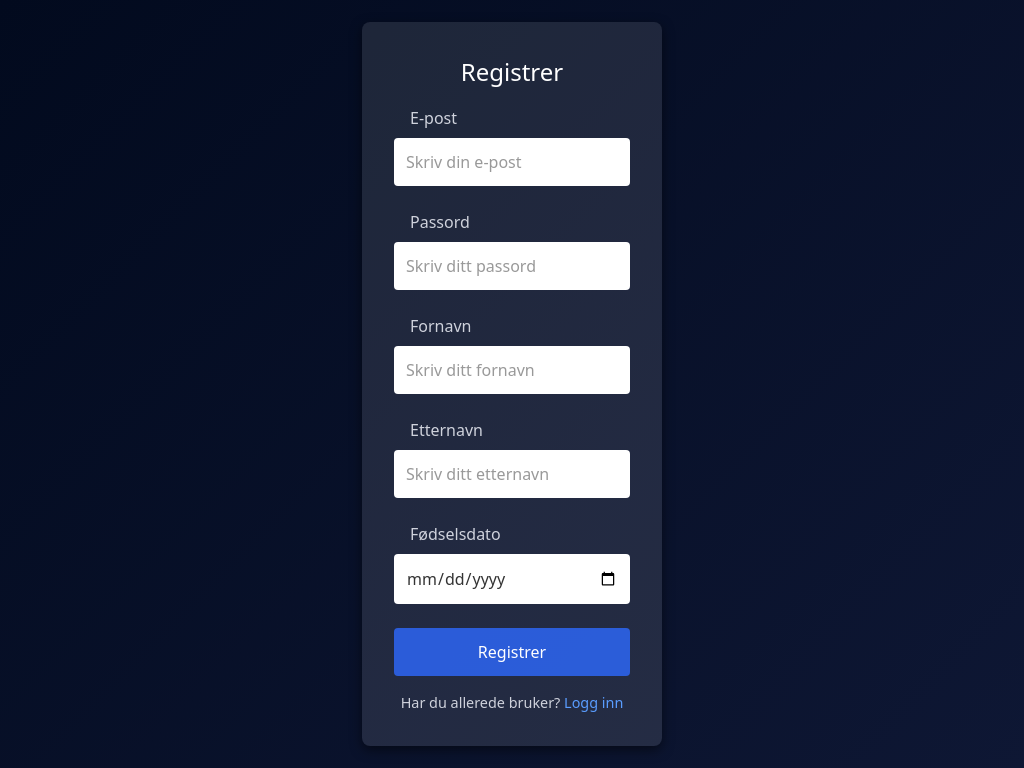
Test: displays error message on invalid email
This screenshot has width=1024, height=768.
Type "invalidemail" into the field with placeholder "Skriv din e-post" at coordinates (512, 162), box [394,138,630,186]
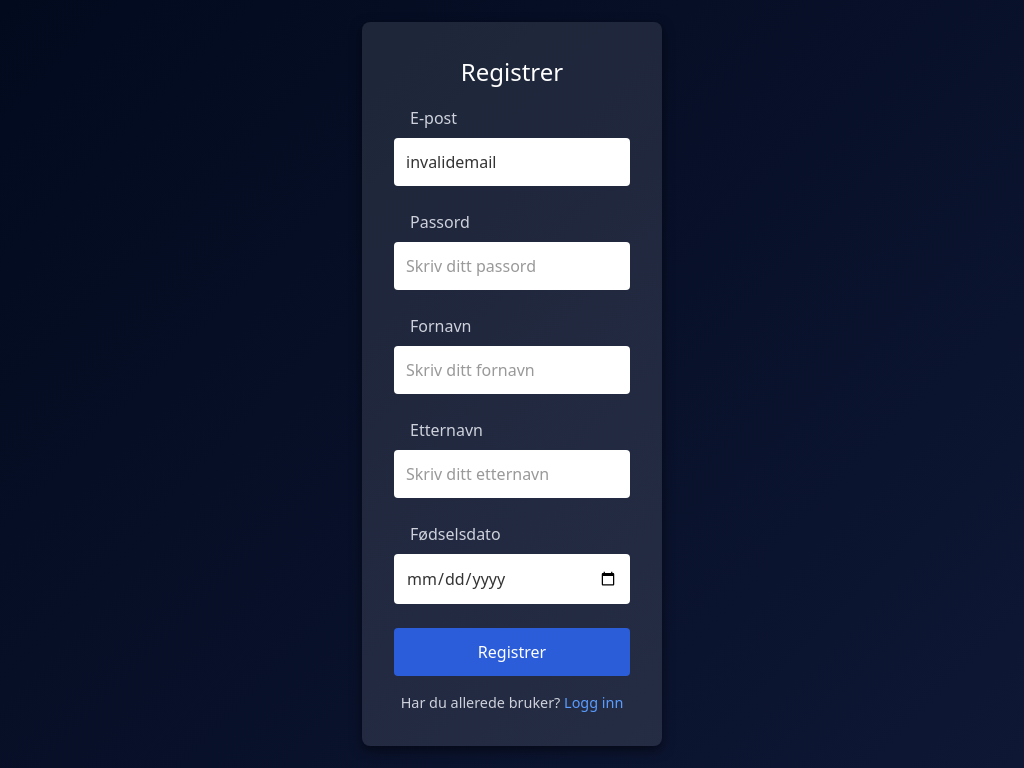
Type "ValidPass123" into the password field with placeholder "Skriv ditt passord" at coordinates (512, 266), box [394,242,630,290]
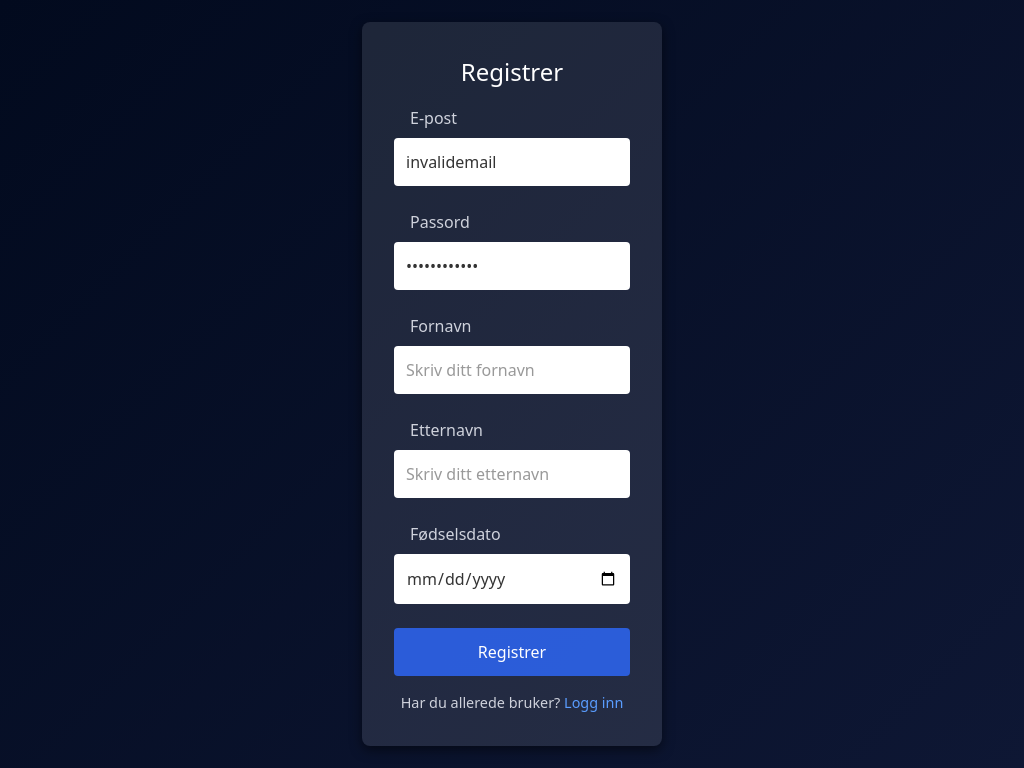
Type "Fornavn" into the field with placeholder "Skriv ditt fornavn" at coordinates (512, 370), box [394,346,630,394]
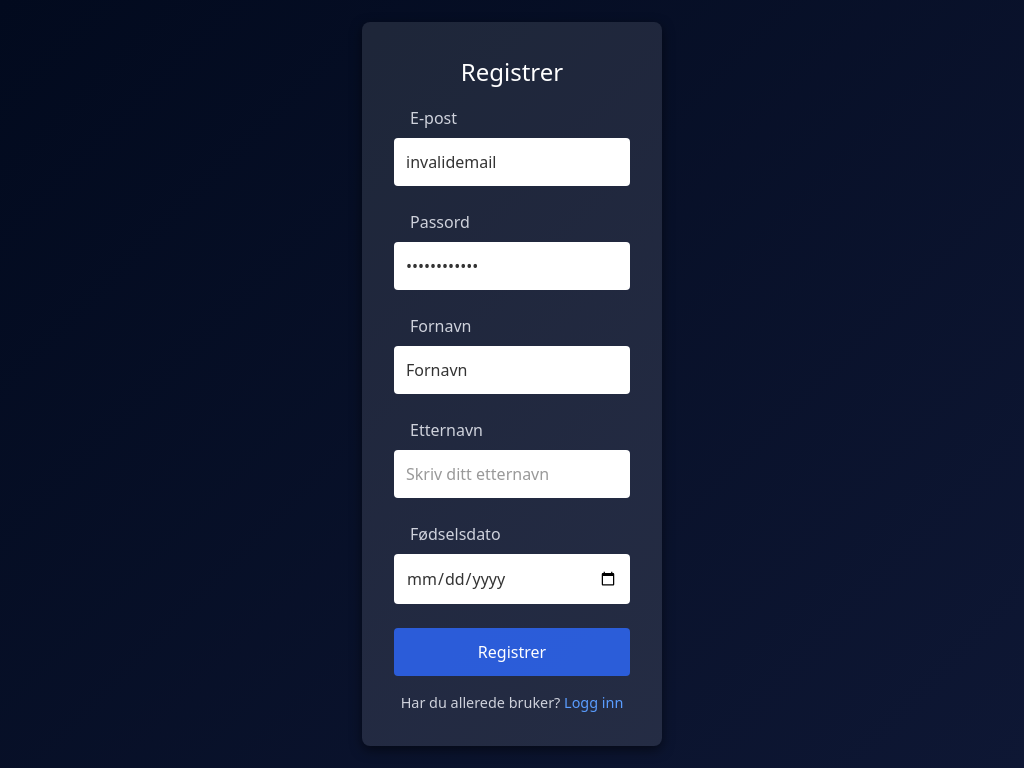
Type "Etternavn" into the field with placeholder "Skriv ditt etternavn" at coordinates (512, 474), box [394,450,630,498]
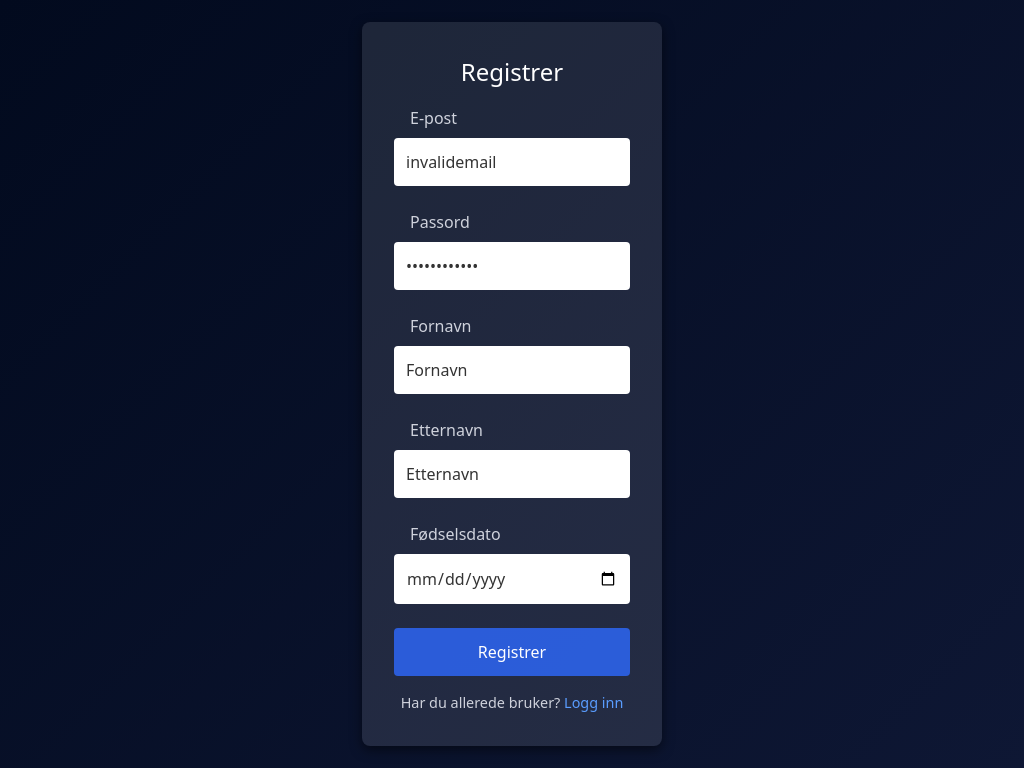
Type "2000-01-01" into the date field with placeholder "Enter your date of birth" at coordinates (512, 579), box [394,554,630,604]
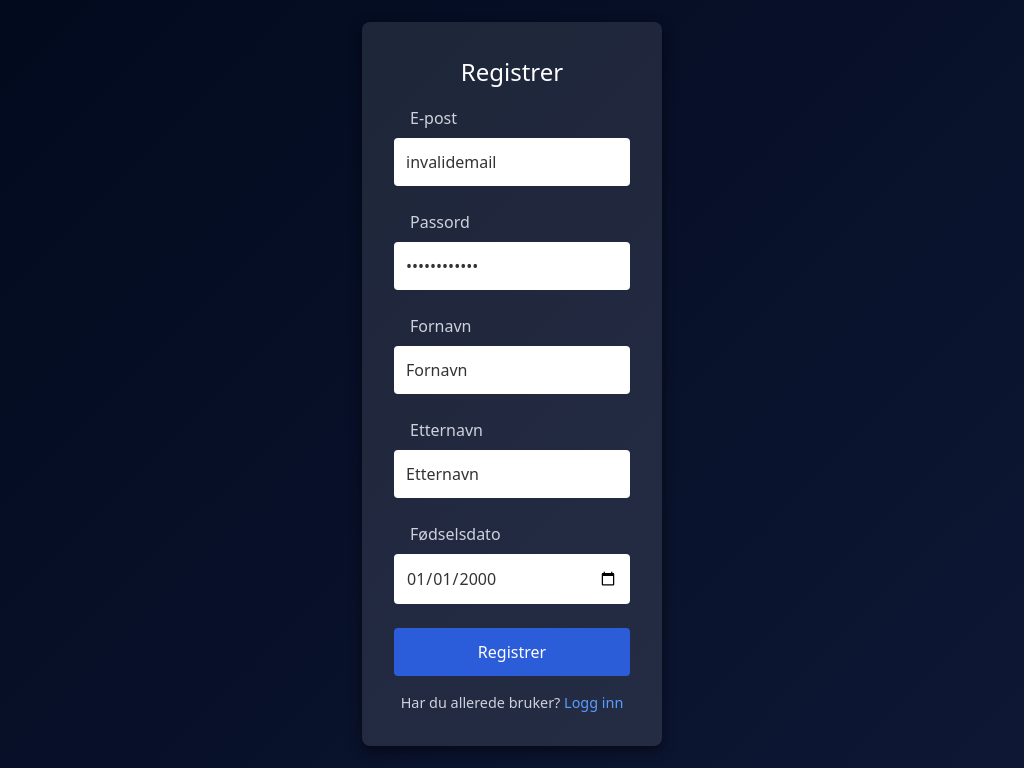
Click the button "Registrer" at coordinates (512, 652), box [394,628,630,676]
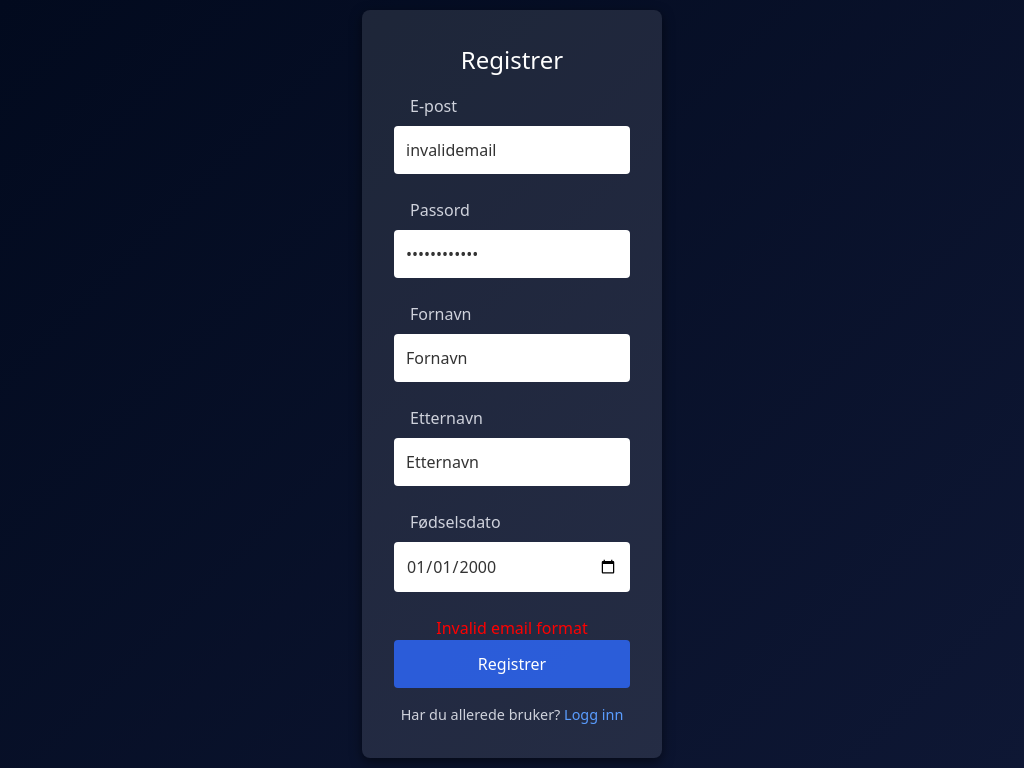
Expected: the text "Invalid email format" is shown, [436,617,588,639]
